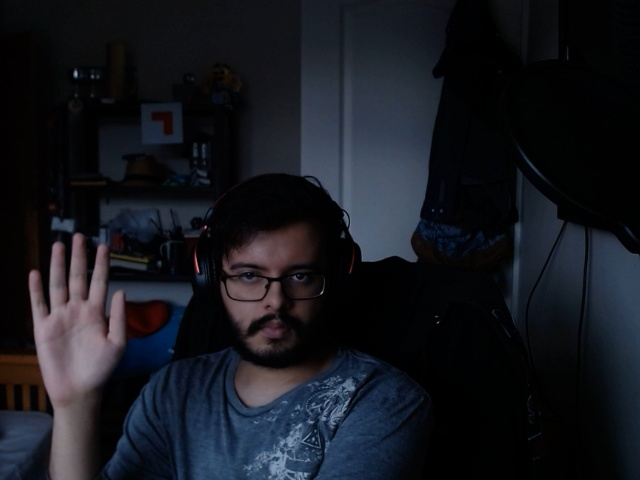Hello: (21, 228, 132, 402)
